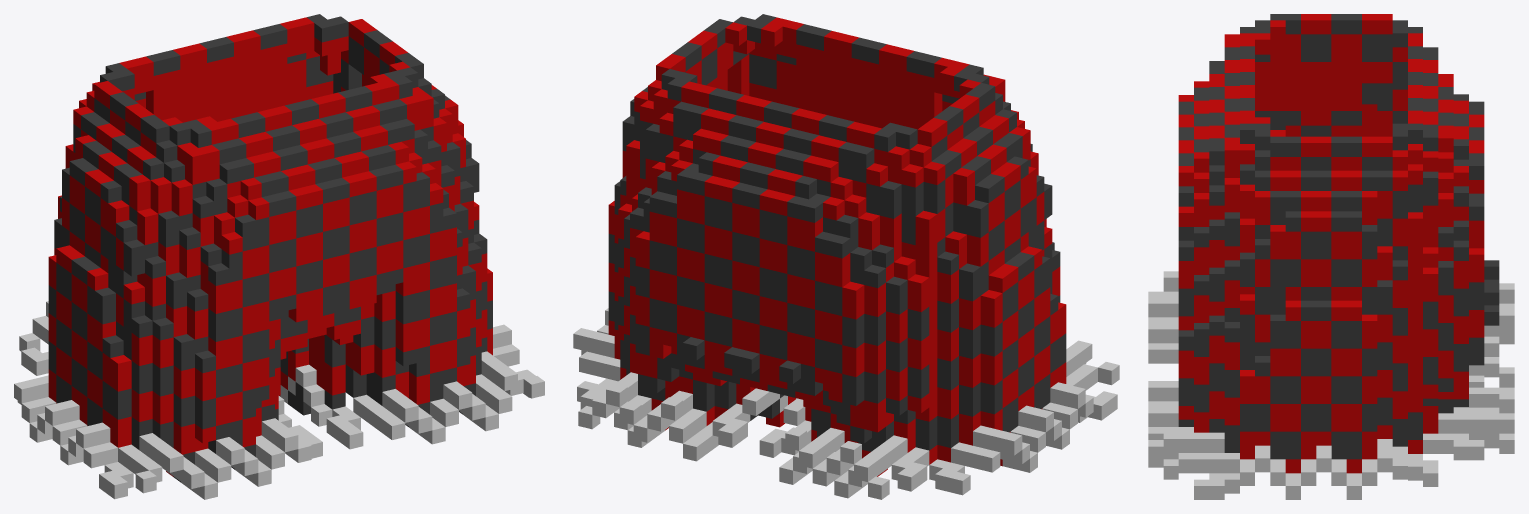
3 renders of one model, left to right at view 1: azimuth 30°, elevation 25°; view 2: azimuth 150°, elevation 25°; view 3: azimuth 270°, elevation 25°, orthographic. The views are drawn at different scales.
Size of the model in its own units: 1.6 by 1.15 by 1.2.
